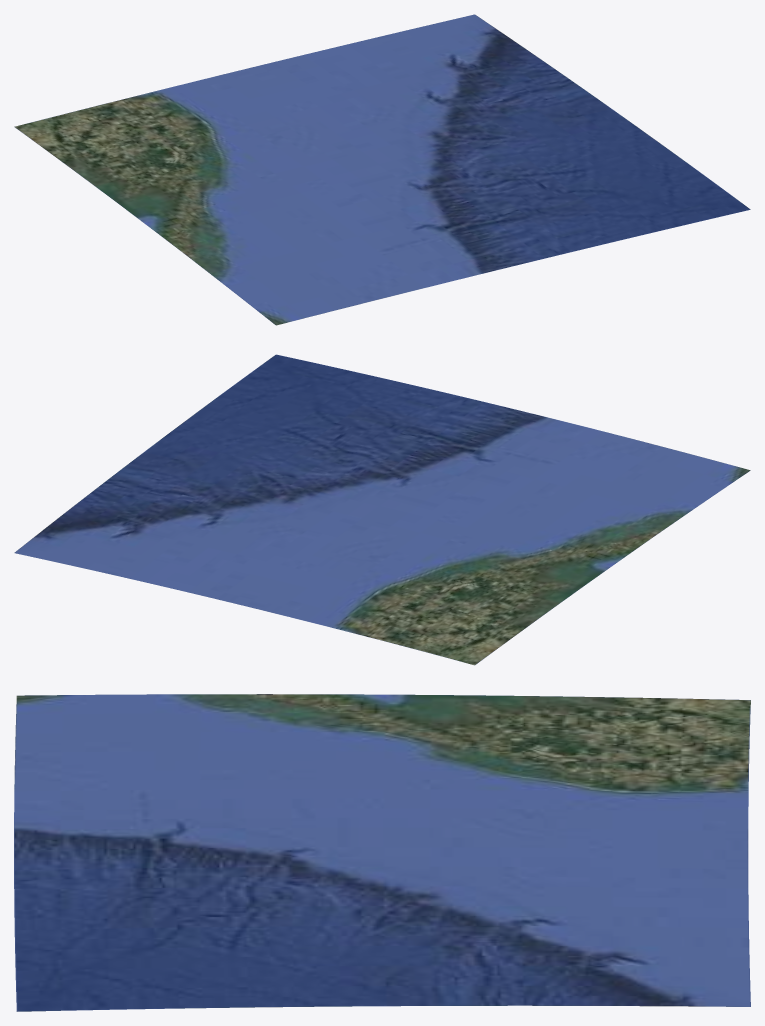
3 renders of one model, top to bottom at view 1: azimuth 30°, elevation 25°; view 2: azimuth 150°, elevation 25°; view 3: azimuth 270°, elevation 25°, orthographic. The views are drawn at different scales.
Bounding box in the file's own units: 251631 × 2420 × 247822.
1 material, 1 textured.
